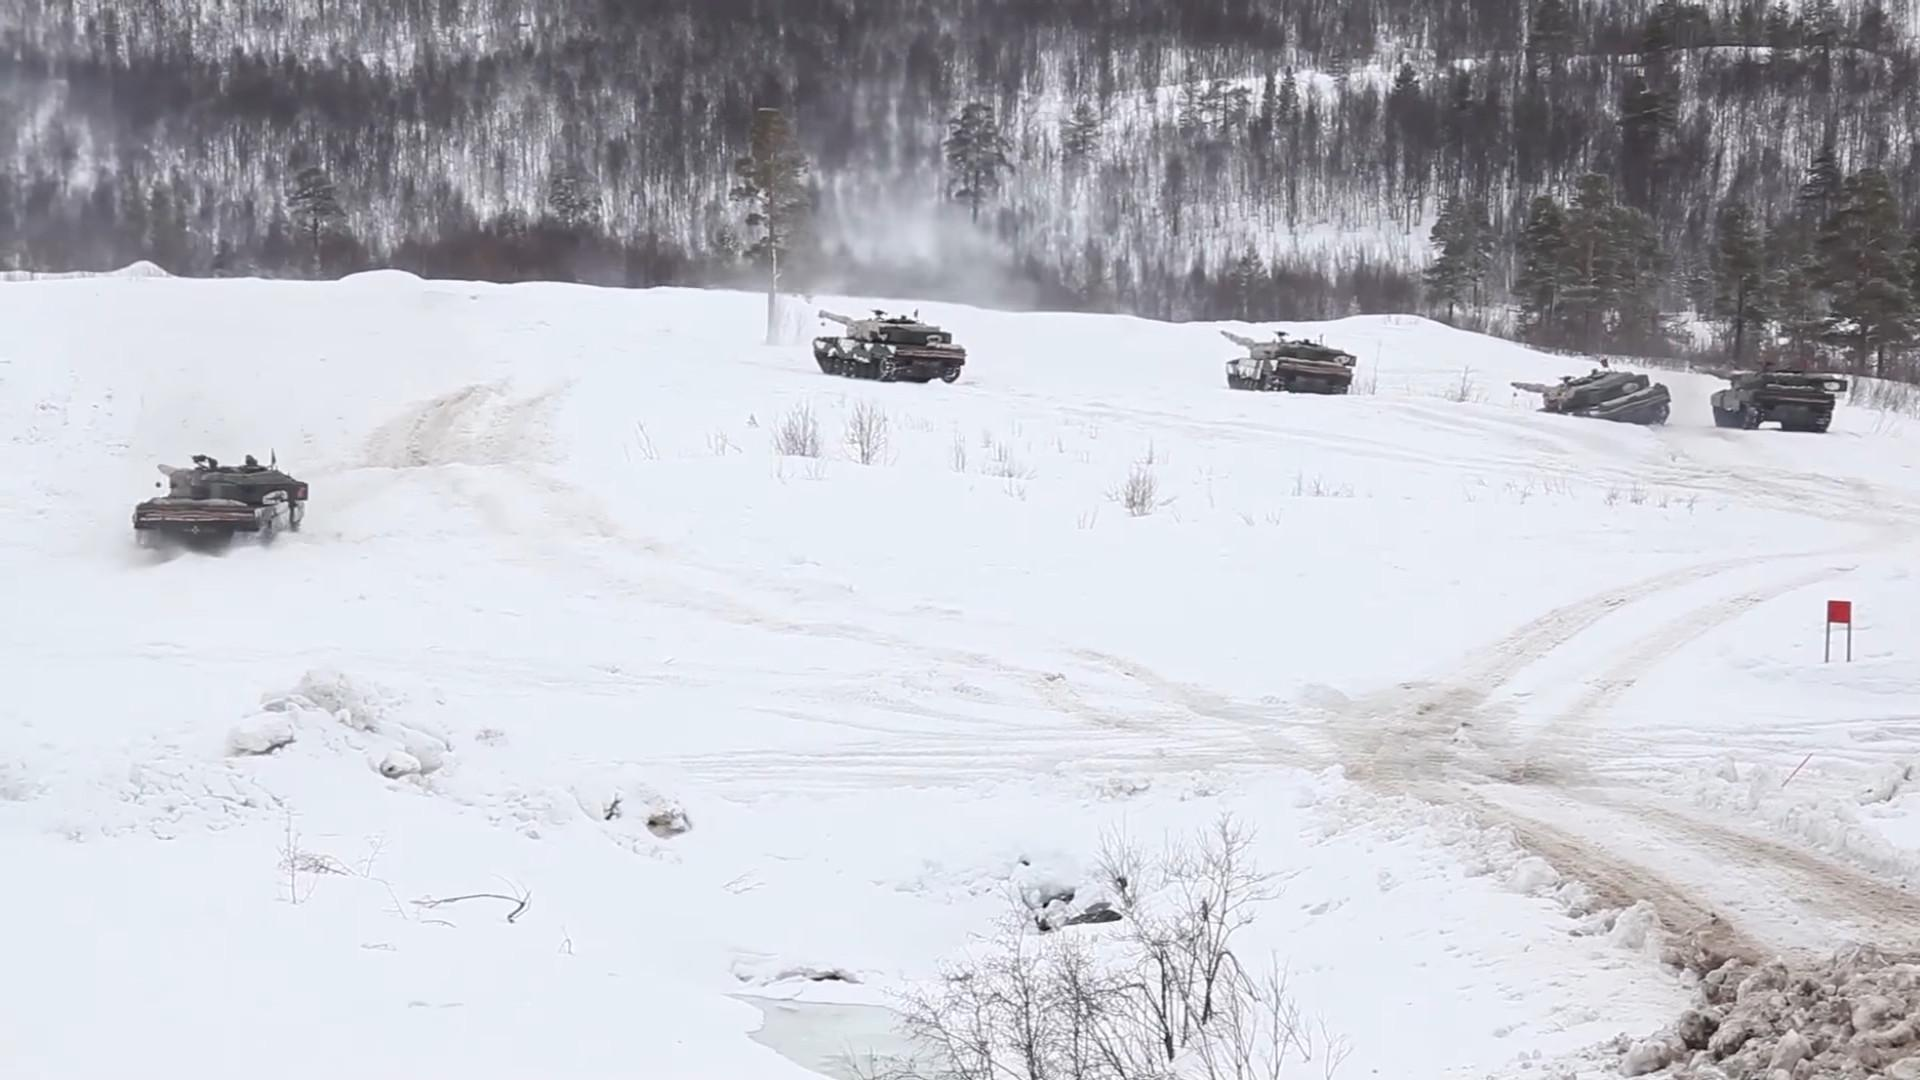tank: (132, 463, 307, 549), (811, 310, 967, 384), (1689, 364, 1846, 433), (1220, 330, 1357, 396), (1510, 369, 1669, 425)
